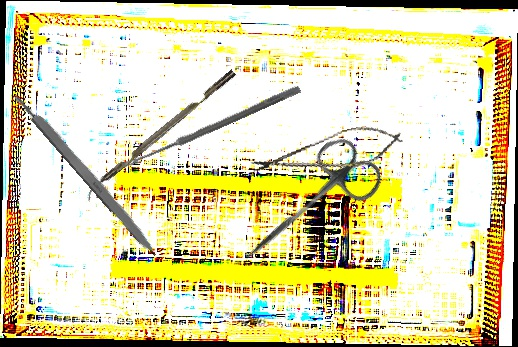Chopper: (80, 69, 243, 205)
Iris Scissors: (224, 128, 390, 288)
Micro Scissor: (245, 117, 410, 188)
Scalpel Handle: (12, 89, 162, 259)
Surgical Spoon: (120, 83, 302, 172)
